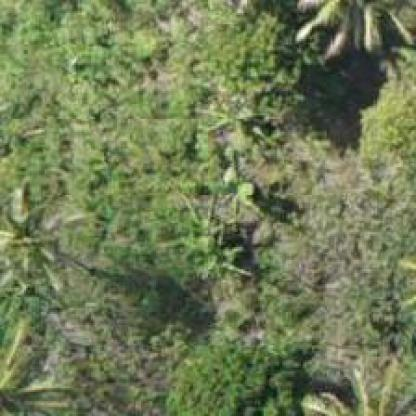coconut tree: (297, 0, 414, 59)
